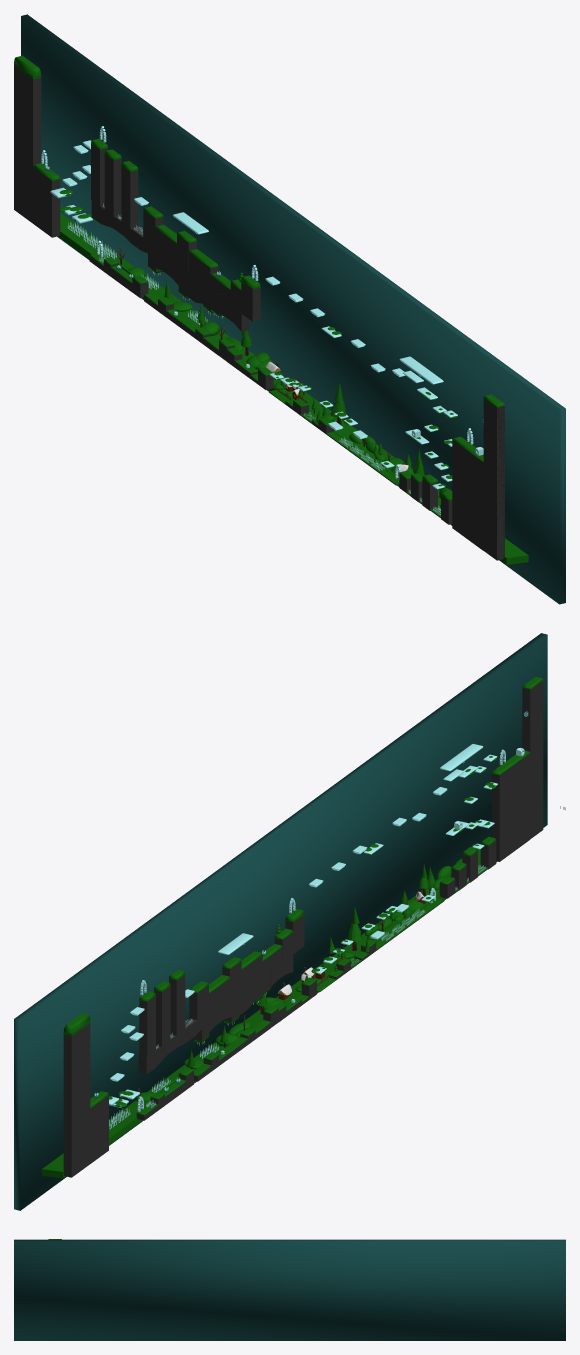
Rendered from LocationNewFinal.fbx.
The picture shows the model from 3 angles, top to bottom: view 1: azimuth 30°, elevation 25°; view 2: azimuth 150°, elevation 25°; view 3: azimuth 270°, elevation 25°; orthographic projection. The views are drawn at different scales.
Visible parts, largest first — view 1: Cube.088, Cube.116, Cube.120, Cube.001, Cube.087, Cube.115, Cube.104, Cube.051, Cube.105, Cube.094, Cube.127; view 2: Cube.088, Cube.116, Cube.001, Cube.120, Cube.087, Cube.115, Cube.105, Cube.051, Cube.094, Cube.104; view 3: Cube.088.
Boxes of the visible parts, x1=… form: Cube.088: x1=21, y1=14, x2=565, y2=604; Cube.116: x1=14, y1=55, x2=41, y2=223; Cube.120: x1=483, y1=394, x2=504, y2=560; Cube.001: x1=58, y1=213, x2=528, y2=564; Cube.087: x1=452, y1=459, x2=483, y2=550; Cube.115: x1=33, y1=163, x2=60, y2=237; Cube.104: x1=104, y1=149, x2=121, y2=216; Cube.051: x1=121, y1=161, x2=138, y2=228; Cube.105: x1=91, y1=139, x2=107, y2=206; Cube.094: x1=452, y1=436, x2=483, y2=480; Cube.127: x1=241, y1=275, x2=260, y2=321; Cube.088: x1=14, y1=633, x2=547, y2=1210; Cube.116: x1=63, y1=1013, x2=90, y2=1177; Cube.001: x1=42, y1=849, x2=481, y2=1178; Cube.120: x1=522, y1=676, x2=543, y2=838; Cube.087: x1=492, y1=772, x2=530, y2=861; Cube.115: x1=90, y1=1091, x2=108, y2=1163; Cube.105: x1=139, y1=991, x2=155, y2=1057; Cube.051: x1=169, y1=969, x2=185, y2=1035; Cube.094: x1=491, y1=750, x2=530, y2=793; Cube.104: x1=154, y1=981, x2=170, y2=1047; Cube.088: x1=14, y1=1239, x2=565, y2=1340.
Bounding box in the file's own units: 1910 × 8562 × 43010.
